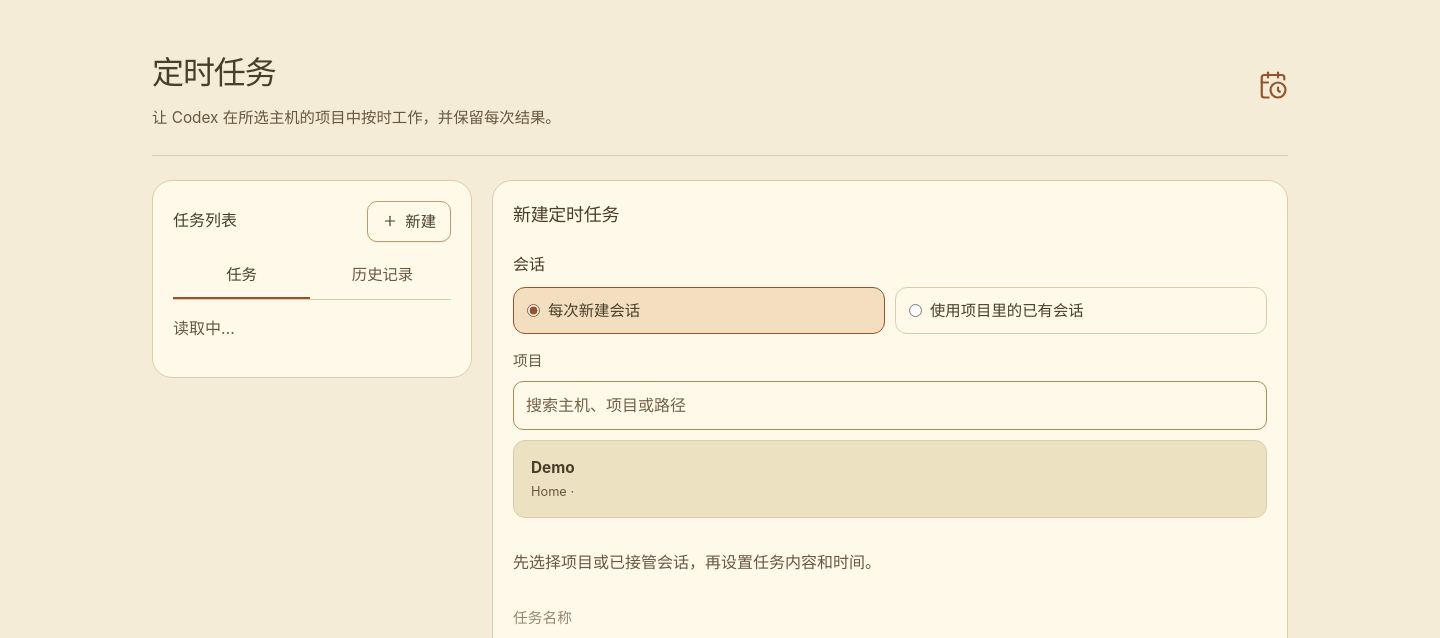
Test: searches all controlled sessions before enabling task settings and keeps history inside scheduled tasks
This screenshot has width=1440, height=638.
Click the radio button labelled "使用项目里的已有会话": point(916, 311) x1=909 y1=304 x2=922 y2=317
(page scrolled)
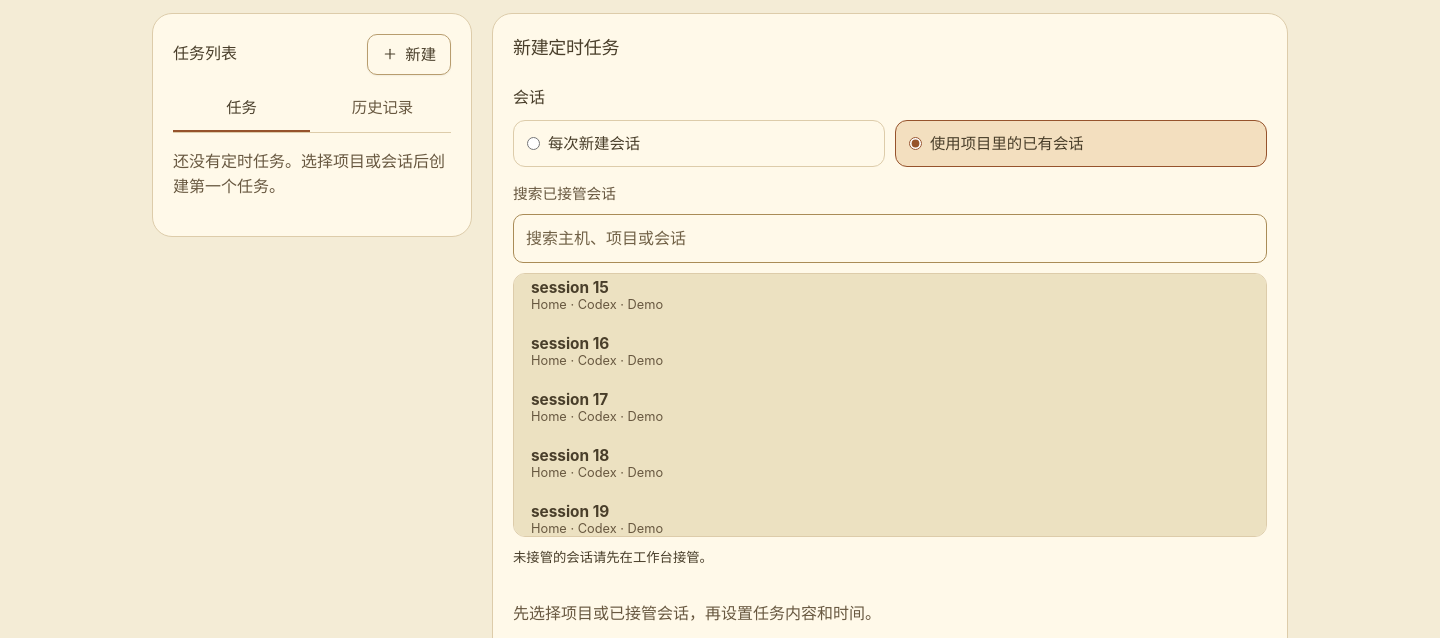
Click the option "session 17 Home · Codex · Demo": point(570, 400) x1=520 y1=379 x2=1260 y2=431
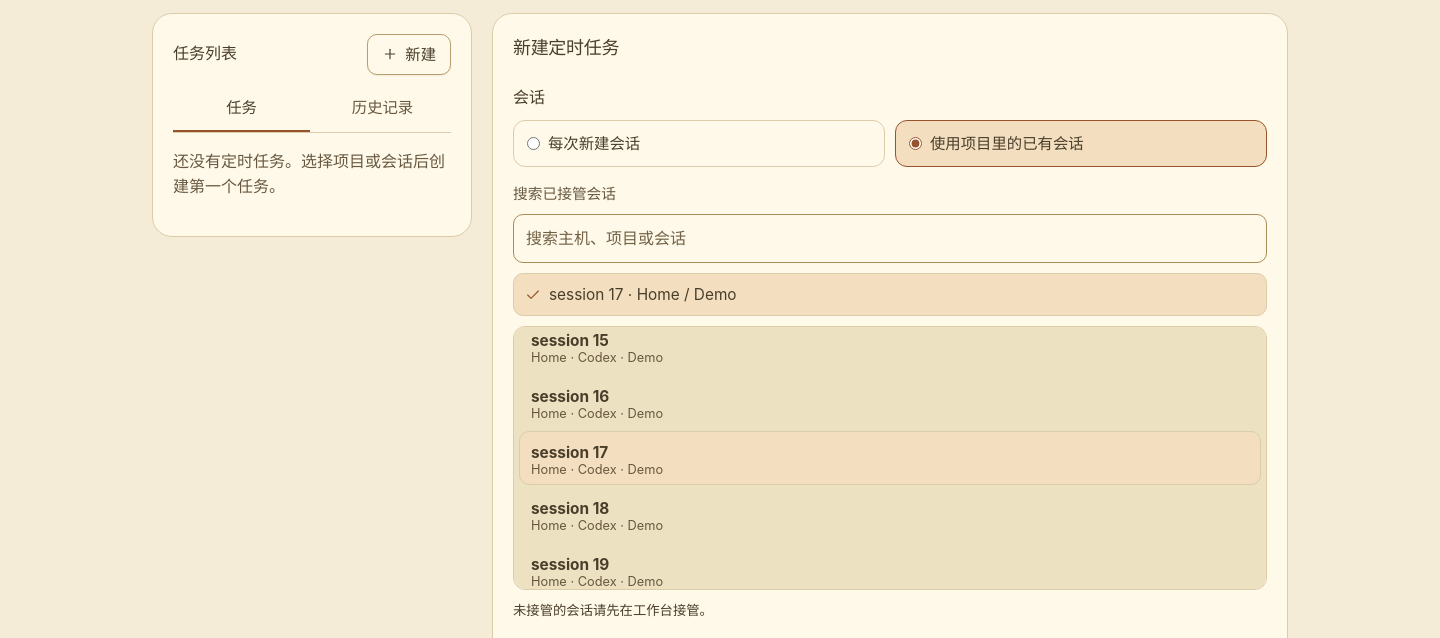
Check: the text "session 17 · Home / Demo" is shown, box x1=549 y1=283 x2=737 y2=306
In the field with placeholder "搜索主机、项目或会话": point(890, 238) x1=513 y1=214 x2=1267 y2=263, type "session 2"
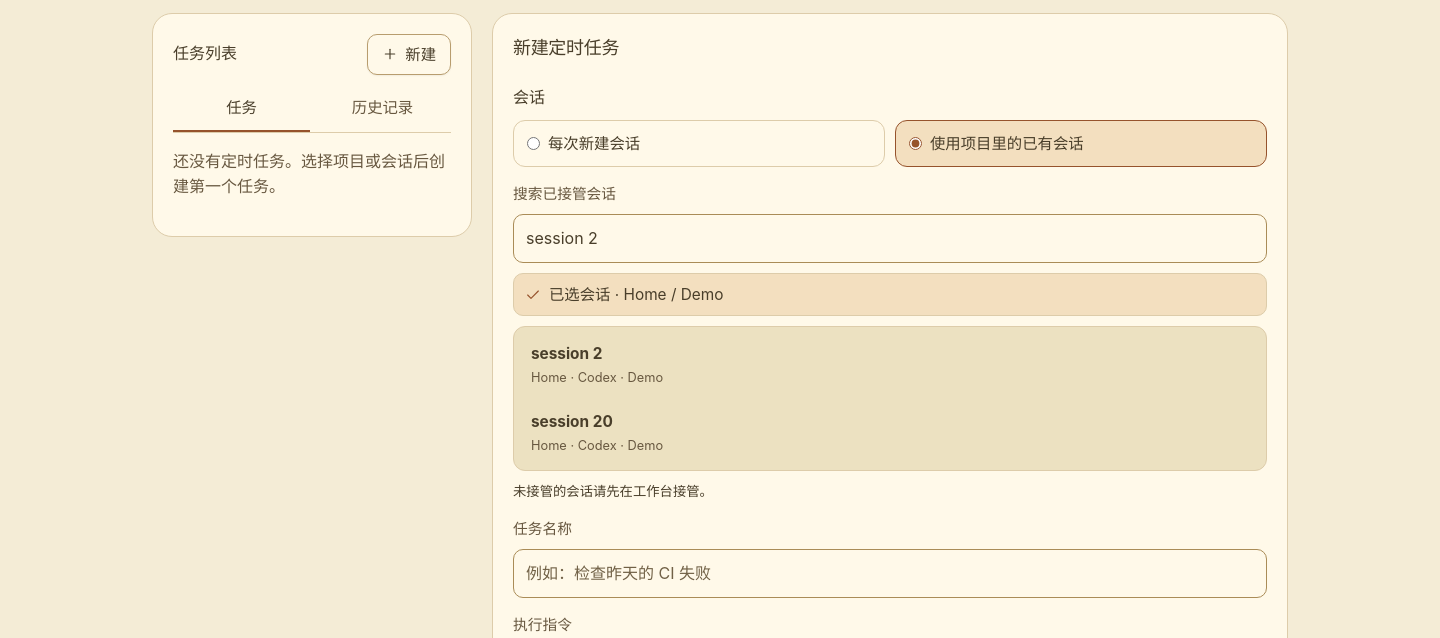
Click the button "历史记录": point(382, 109) x1=314 y1=87 x2=451 y2=132
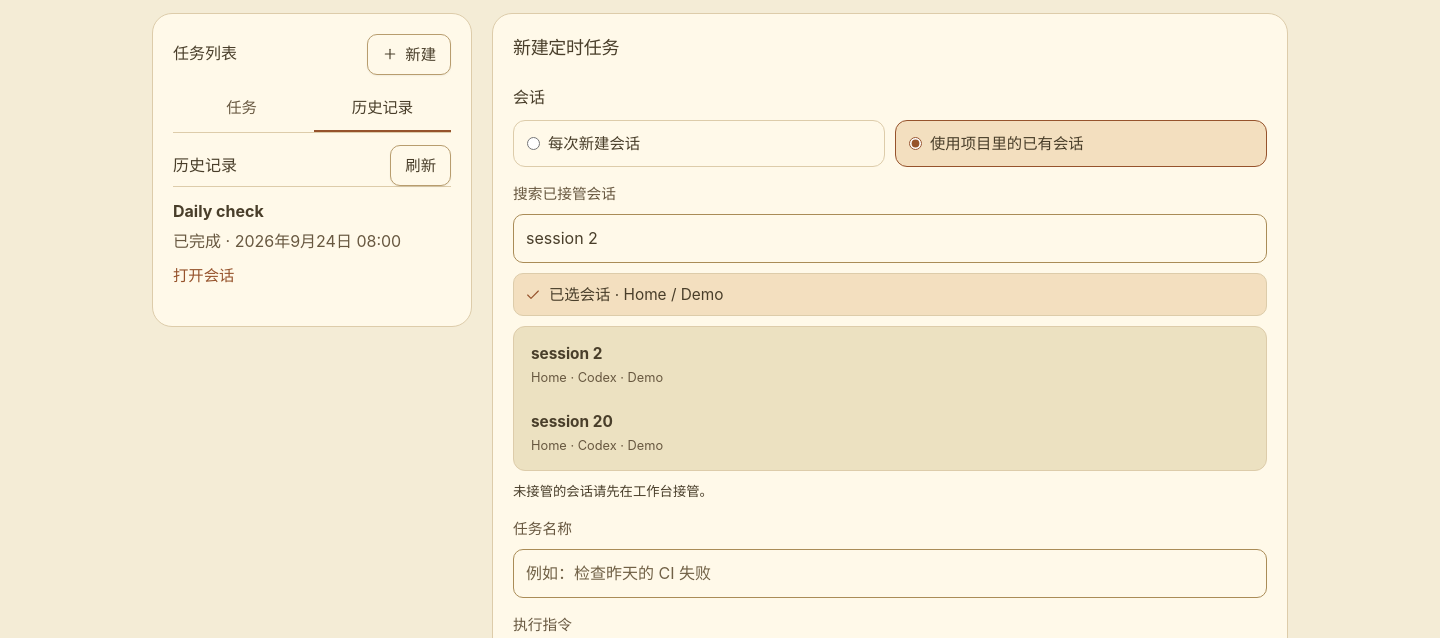
Check: the text "Daily check" is shown, box x1=173 y1=201 x2=264 y2=221
